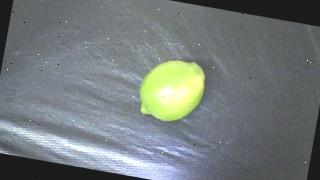LOCAL: (135, 55, 209, 127)
